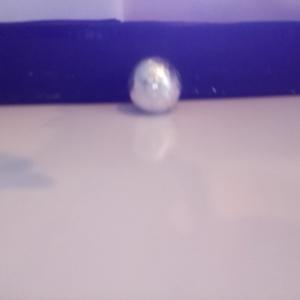zone: (1, 18, 300, 104)
